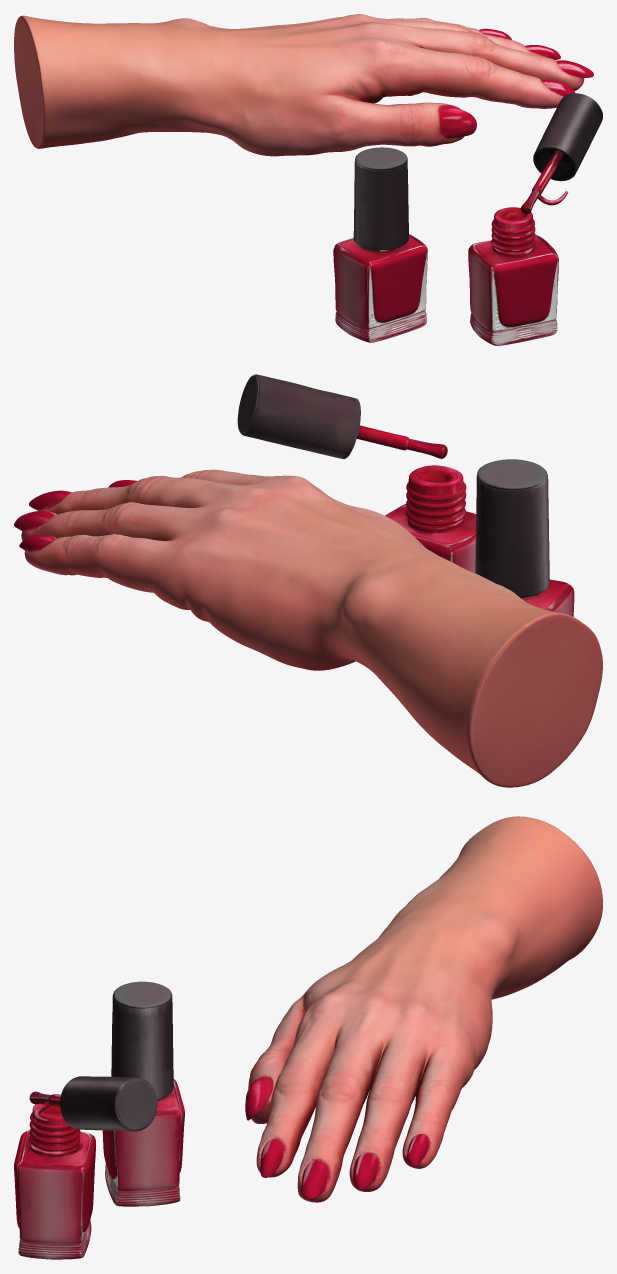
The model's file is esmalte-mao.glb.
3 renders of one model, top to bottom at view 1: azimuth 30°, elevation 25°; view 2: azimuth 150°, elevation 25°; view 3: azimuth 270°, elevation 25°, orthographic. The views are drawn at different scales.
Parts seen in each view (by area): view 1: mao, frasco_aberto, frasco_fechado; view 2: mao, frasco_aberto, frasco_fechado; view 3: mao, frasco_aberto, frasco_fechado.
Boxes of the visible parts, left/top/right/bottom form: mao: left=14, top=14, right=593, bottom=156; frasco_aberto: left=468, top=93, right=602, bottom=345; frasco_fechado: left=333, top=147, right=427, bottom=342; mao: left=14, top=469, right=602, bottom=787; frasco_aberto: left=237, top=374, right=476, bottom=572; frasco_fechado: left=475, top=459, right=574, bottom=616; mao: left=245, top=816, right=602, bottom=1202; frasco_aberto: left=14, top=1076, right=157, bottom=1259; frasco_fechado: left=102, top=981, right=184, bottom=1206.
Bounding box in the file's own units: 0.9795 × 0.4404 × 0.8864.
Materials: 1 (1 with a texture image).
